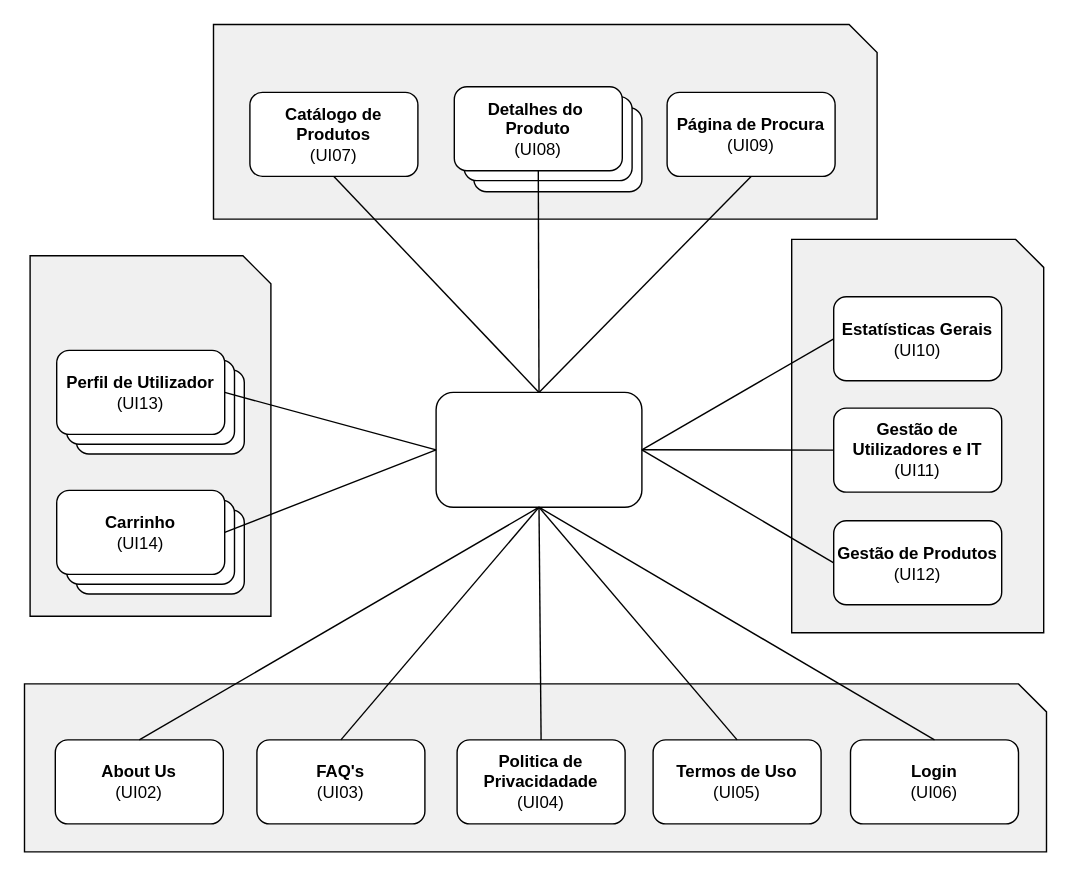
Image size: 1071x876. Some labels were removed from this diagram. The shapes that lost their labels are listed below. From the top down, each one's box as (x1, y1, x2, y2) in pixels, then its label:
(212, 23, 877, 219): Biblioteca de Produtos
(29, 254, 271, 616): Páginas de Utilizador Autenticado
(435, 391, 642, 507): Página Inicial (UI01)
(790, 238, 1044, 633): Páginas de Administrador
(23, 682, 1046, 852): Páginas Estáticas
